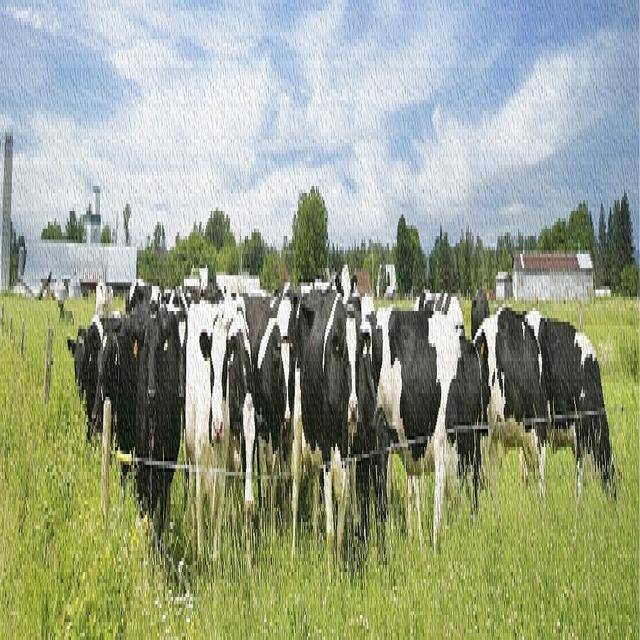cow: (353, 315, 463, 551), (474, 294, 548, 562), (526, 304, 617, 500), (293, 286, 353, 572), (97, 275, 157, 508), (132, 308, 183, 569), (182, 293, 229, 572), (215, 293, 266, 504), (448, 322, 487, 529), (244, 297, 293, 443), (66, 311, 102, 433), (252, 393, 282, 508), (469, 283, 488, 336)
